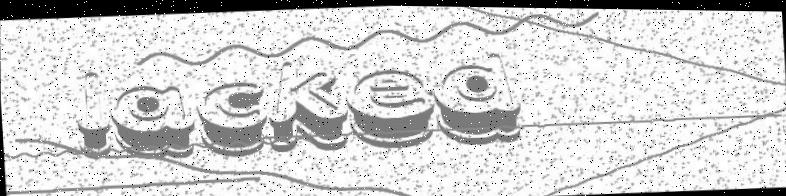a: (109, 83, 197, 161)
c: (196, 80, 268, 158)
d: (432, 52, 523, 147)
e: (346, 67, 436, 150)
k: (265, 59, 349, 153)
l: (73, 71, 114, 160)
